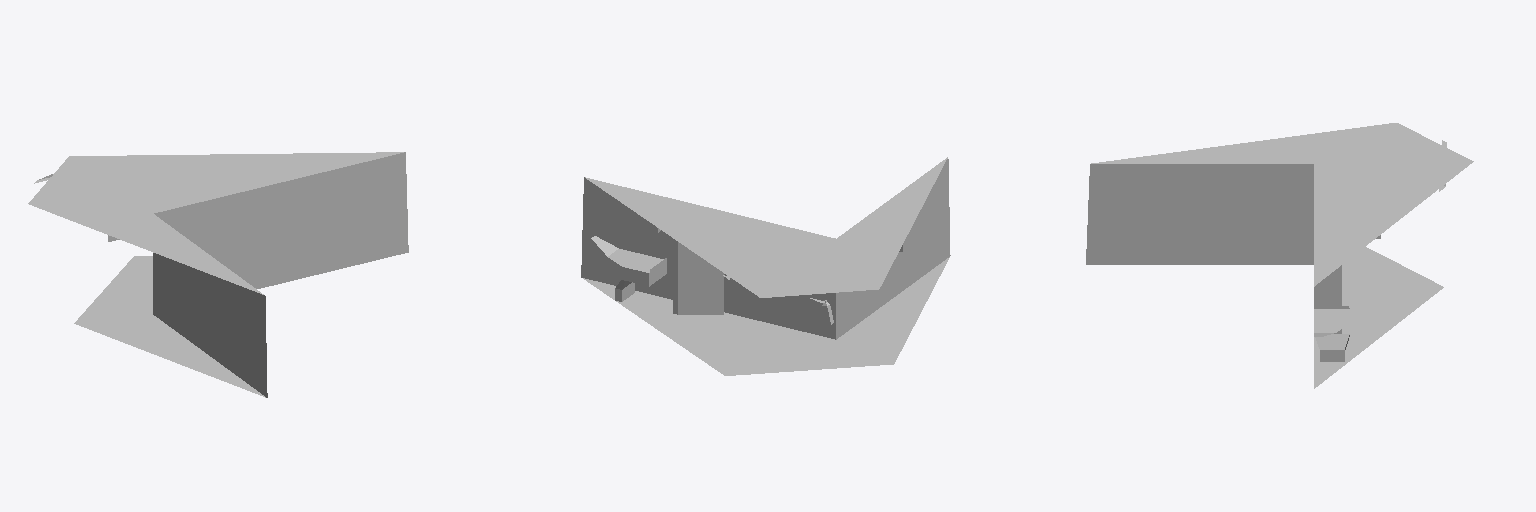
Rendered from 250131-hospital-corner.obj.
3 views of the same model, side by side, from view 1: azimuth 30°, elevation 25°; view 2: azimuth 150°, elevation 25°; view 3: azimuth 270°, elevation 25° (orthographic).
Visible parts, largest first — view 1: corridor; view 2: corridor, door, bed; view 3: corridor, bed, door.
Part boxes in pixels (x1,y1,x2,y2): corridor: (28, 152, 408, 397); corridor: (581, 157, 950, 375); door: (658, 228, 723, 314); bed: (591, 236, 666, 301); corridor: (1086, 123, 1473, 388); bed: (1314, 306, 1349, 361); door: (1314, 235, 1380, 333).
Size of the model in its own units: 14.06 by 4.01 by 13.93.